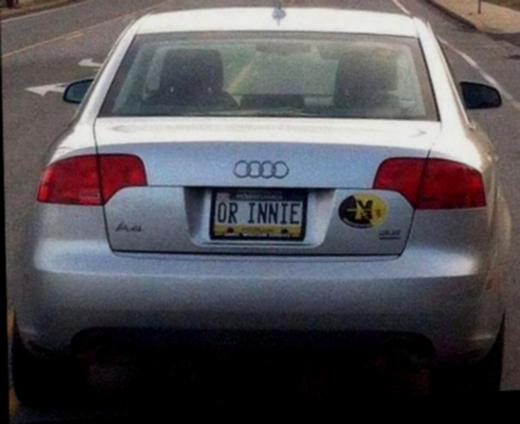License_Plate: (210, 179, 305, 245)
